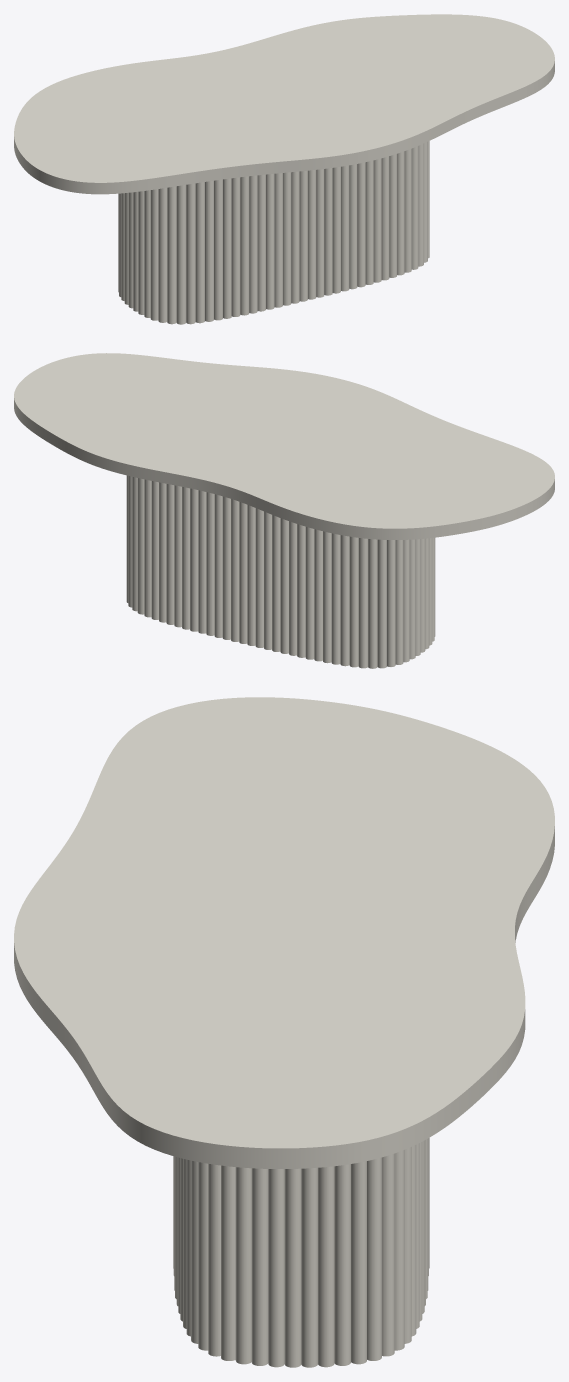
File: pale_toplast_standard_newtable.glb
3 views of the same model, one above another, from view 1: azimuth 30°, elevation 25°; view 2: azimuth 150°, elevation 25°; view 3: azimuth 270°, elevation 25° (orthographic). The views are drawn at different scales.
Visible parts, largest first — view 1: standard_toplast, newtable; view 2: standard_toplast, newtable; view 3: standard_toplast, newtable.
Boxes of the visible parts, x1=… form: standard_toplast: x1=14, y1=14, x2=554, y2=194; newtable: x1=118, y1=141, x2=429, y2=324; standard_toplast: x1=14, y1=353, x2=554, y2=539; newtable: x1=126, y1=475, x2=435, y2=668; standard_toplast: x1=14, y1=697, x2=554, y2=1168; newtable: x1=173, y1=1138, x2=429, y2=1367.
Size of the model in its own units: 7.5 by 2.5 by 3.8.
2 materials, 2 textured.
